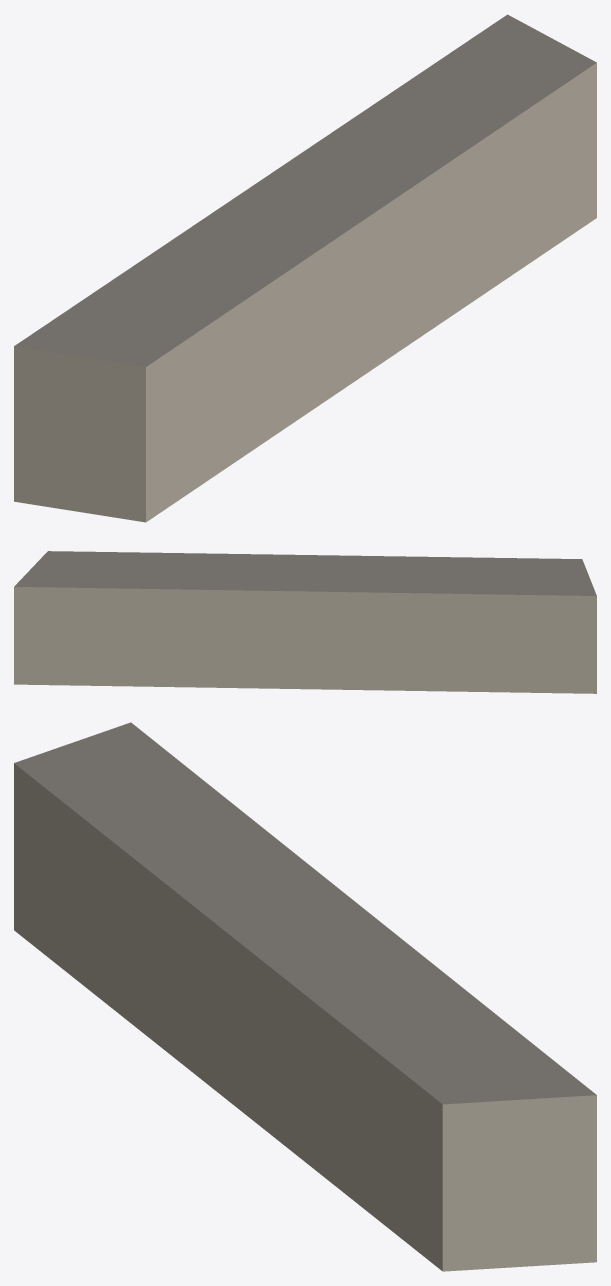
3 renders of one model, top to bottom at view 1: azimuth 30°, elevation 25°; view 2: azimuth 150°, elevation 25°; view 3: azimuth 270°, elevation 25°, orthographic. The views are drawn at different scales.
Visible parts, largest first — view 1: HP-w369237992; view 2: HP-w369237992; view 3: HP-w369237992.
Part boxes in pixels (x1,y1,x2,y2): HP-w369237992: (14,14,596,522); HP-w369237992: (14,551,596,693); HP-w369237992: (14,722,596,1271).
Size of the model in its own units: 88.23 by 18 by 56.89.
